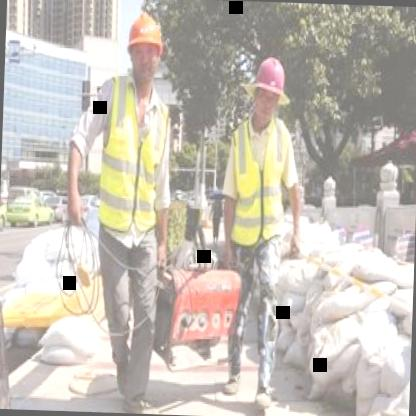helmet: (247, 48, 292, 132), (122, 9, 168, 90)
